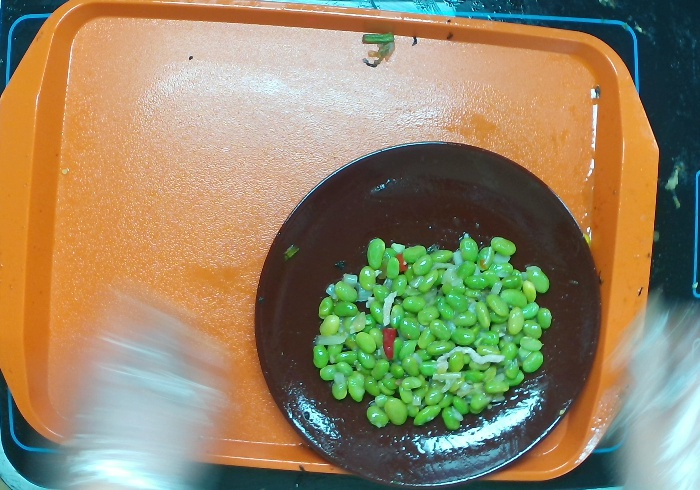HZYJPL-Ka_Fei_Yuan_Pan: (254, 143, 605, 490)
